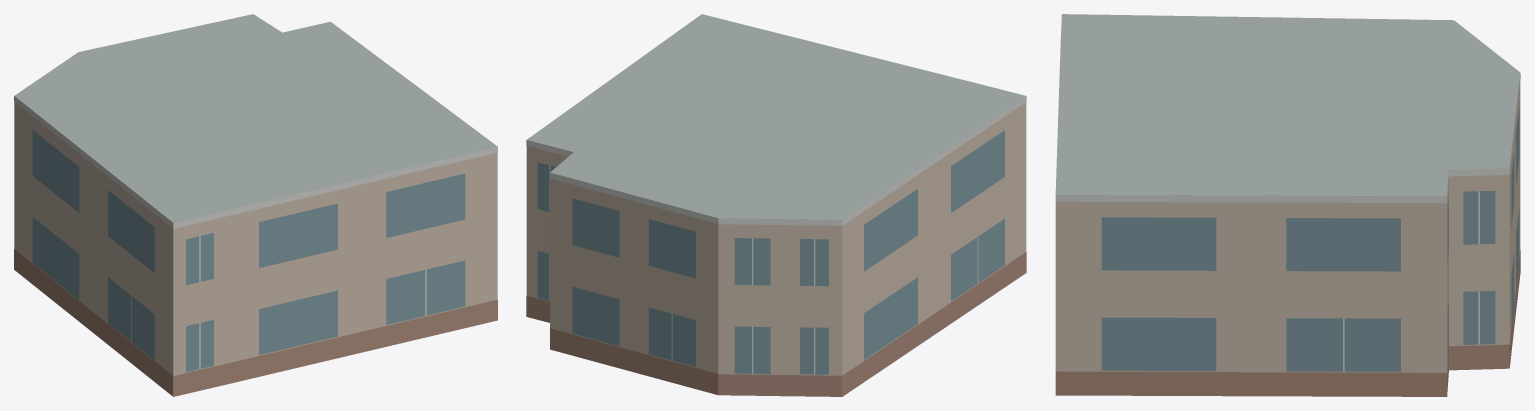
The model's file is survey-upis-32951253.glb.
3 renders of one model, left to right at view 1: azimuth 30°, elevation 25°; view 2: azimuth 150°, elevation 25°; view 3: azimuth 270°, elevation 25°, orthographic. The views are drawn at different scales.
Visible parts, largest first — view 1: survey-upis-32951253.tmp; view 2: survey-upis-32951253.tmp; view 3: survey-upis-32951253.tmp.
Boxes of the visible parts, bbox=[...] form: survey-upis-32951253.tmp: bbox=[14, 14, 497, 396]; survey-upis-32951253.tmp: bbox=[526, 14, 1026, 396]; survey-upis-32951253.tmp: bbox=[1055, 14, 1520, 396].
Size of the model in its own units: 14.06 by 7.2 by 15.14.
